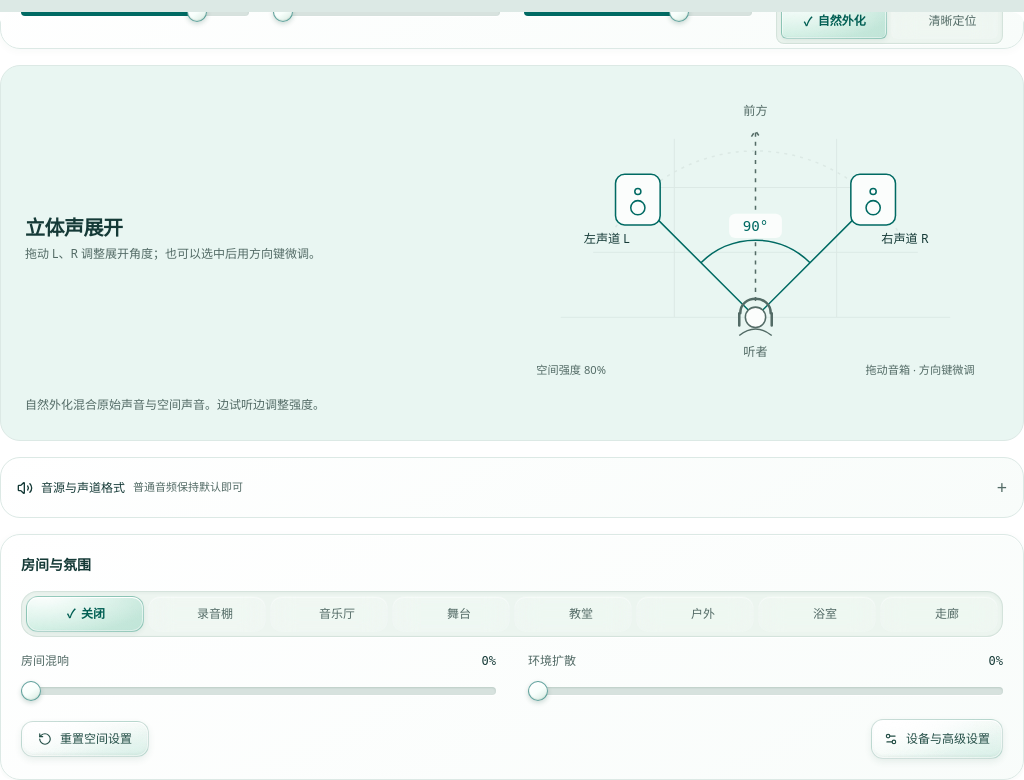
Test: 空间页面完成度：真实参数与节点接线 › 几何估算须显式应用，结果写入真实串扰节点并启用处理
(page scrolled)
Click the button "设备与高级设置". click: (937, 739)
box: left=871, top=719, right=1003, bottom=759
(page scrolled)
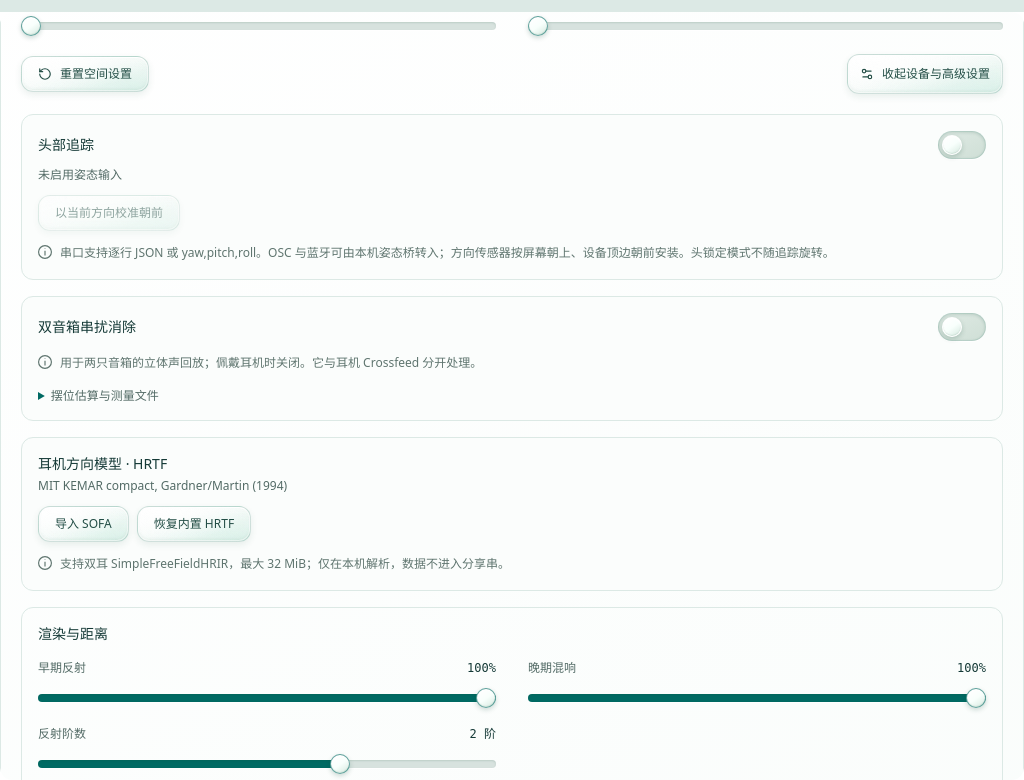
Click the heading "摆位估算与测量文件". click: (105, 396)
box: left=51, top=387, right=159, bottom=404
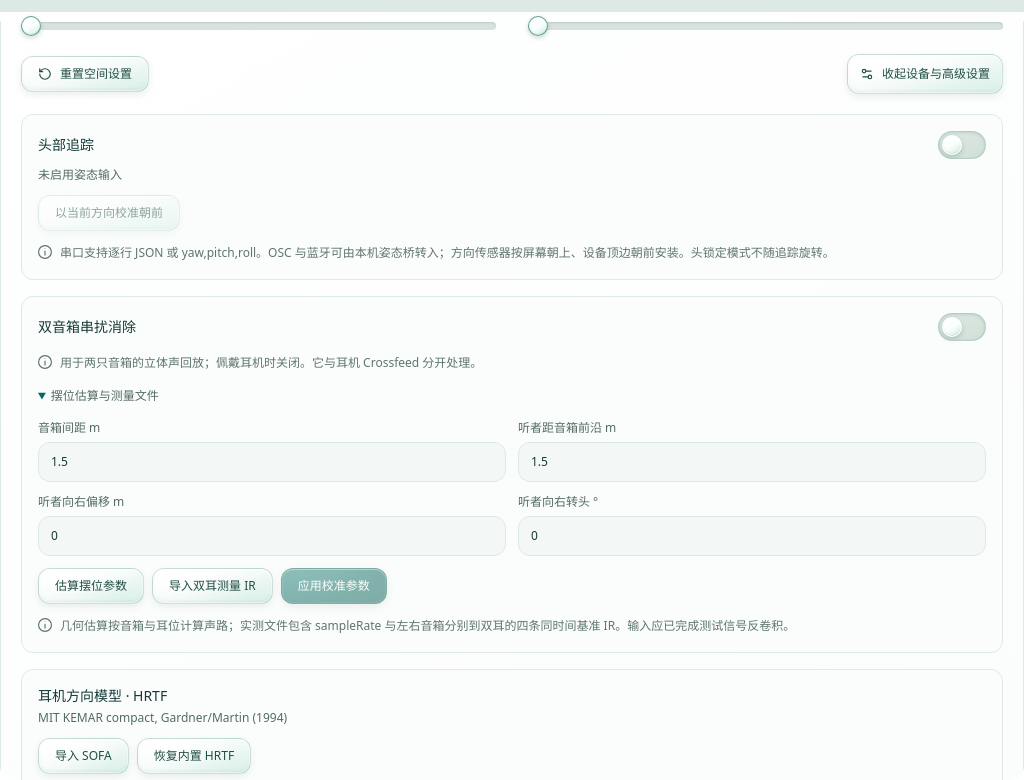
Expected: the button "应用校准参数" is disabled, left=281, top=568, right=387, bottom=604
Replace the text in the number field labelled "音箱间距 m" with "2". click: (272, 462)
box: left=38, top=442, right=506, bottom=482
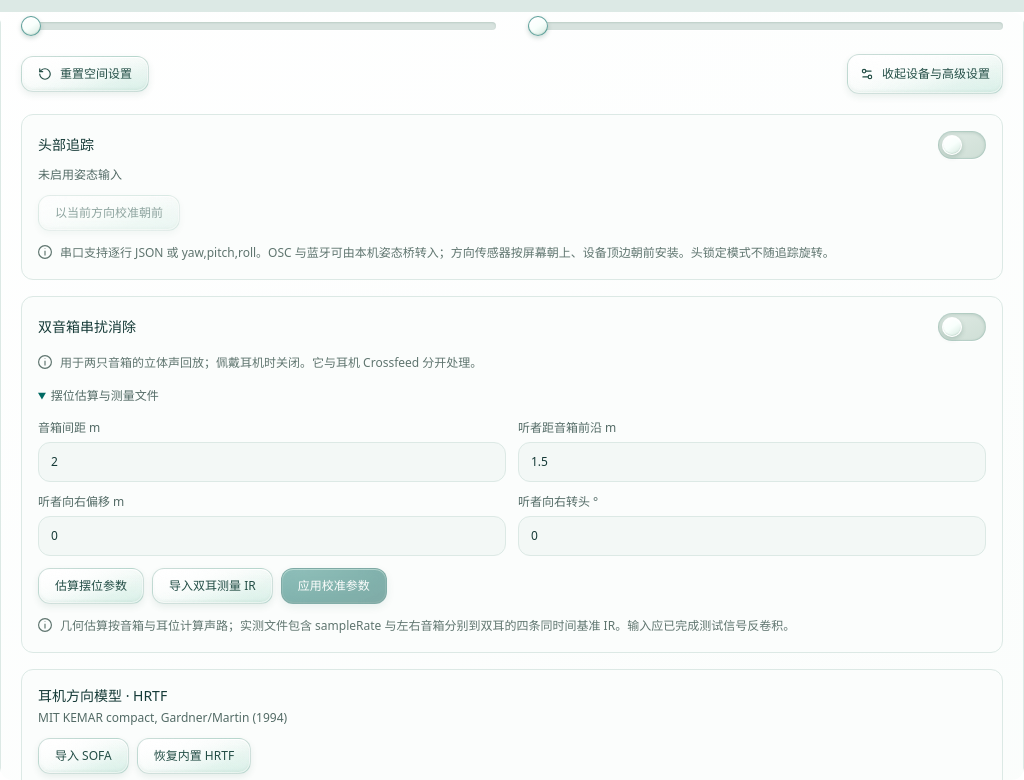
Replace the text in the number field labelled "听者距音箱前沿 m" with "2". click: (752, 462)
box: left=518, top=442, right=986, bottom=482
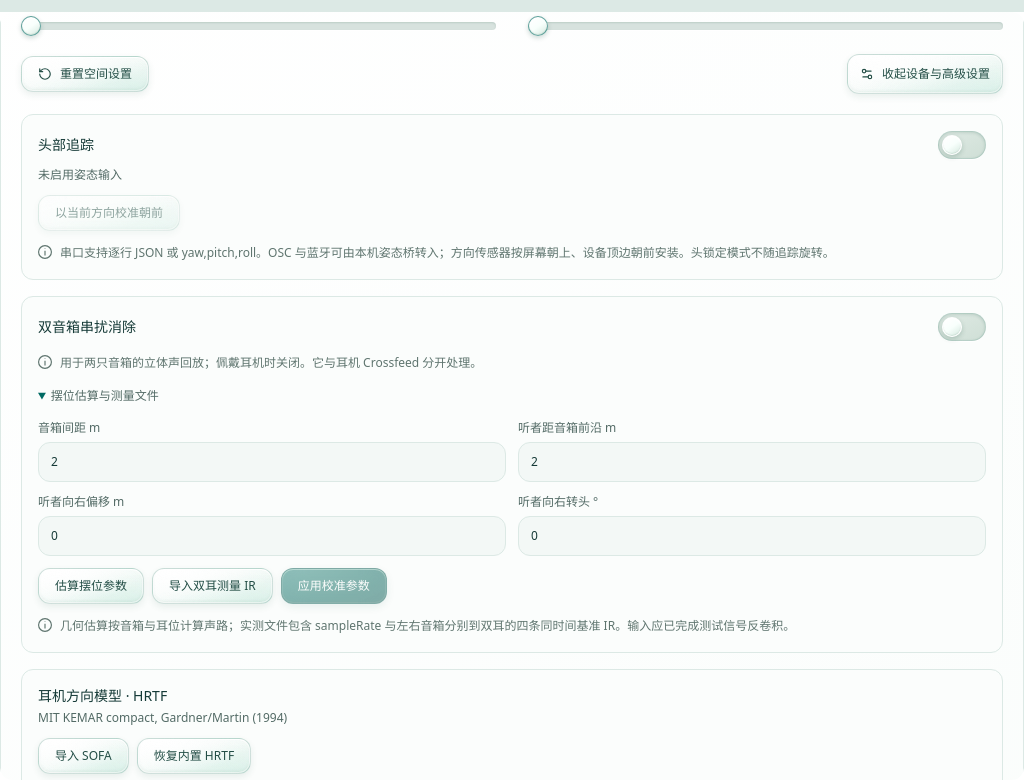
Click the button "估算摆位参数". click: (91, 586)
box: left=38, top=568, right=144, bottom=604
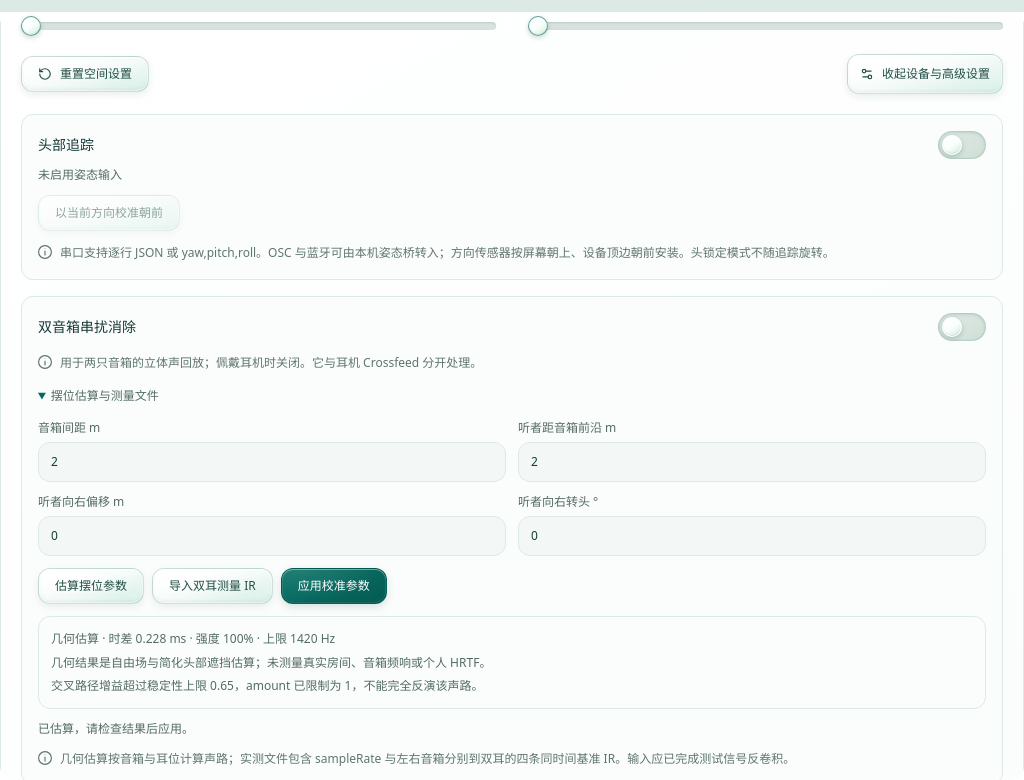
Expected: the text "已估算，请检查结果后应用。" is shown, left=38, top=720, right=194, bottom=736
Expected: the button "应用校准参数" is enabled
Click the button "应用校准参数". click: (334, 586)
box: left=281, top=568, right=387, bottom=604
(page scrolled)
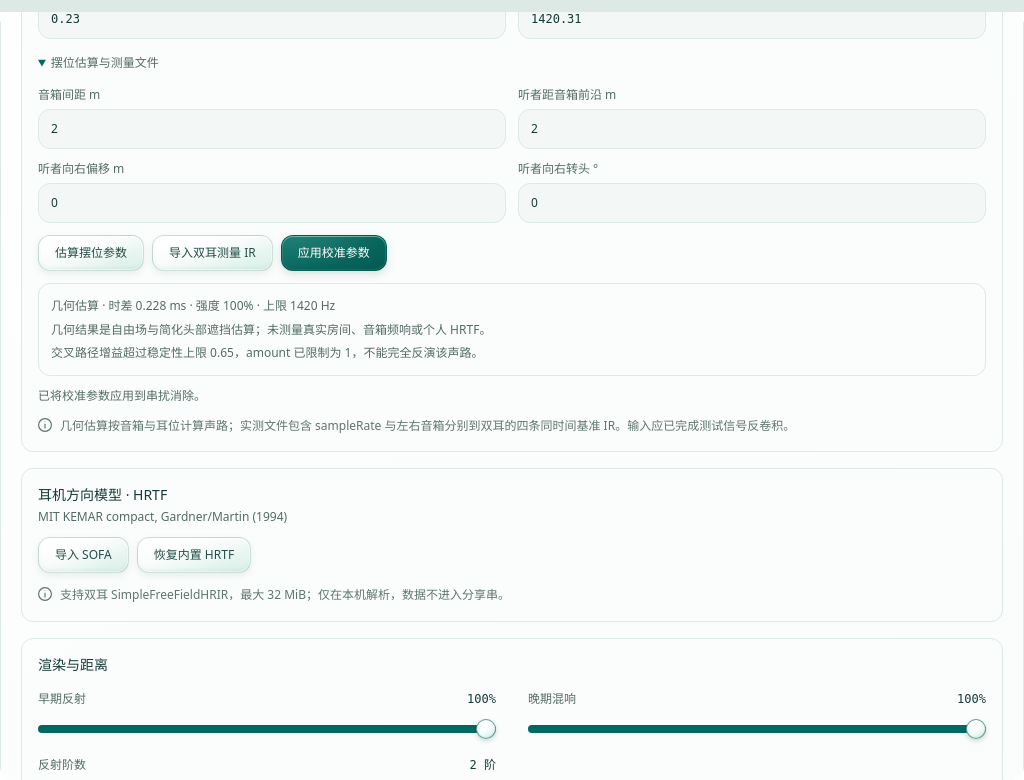
Expected: the text "已将校准参数应用到串扰消除。" is shown, left=38, top=386, right=206, bottom=404
